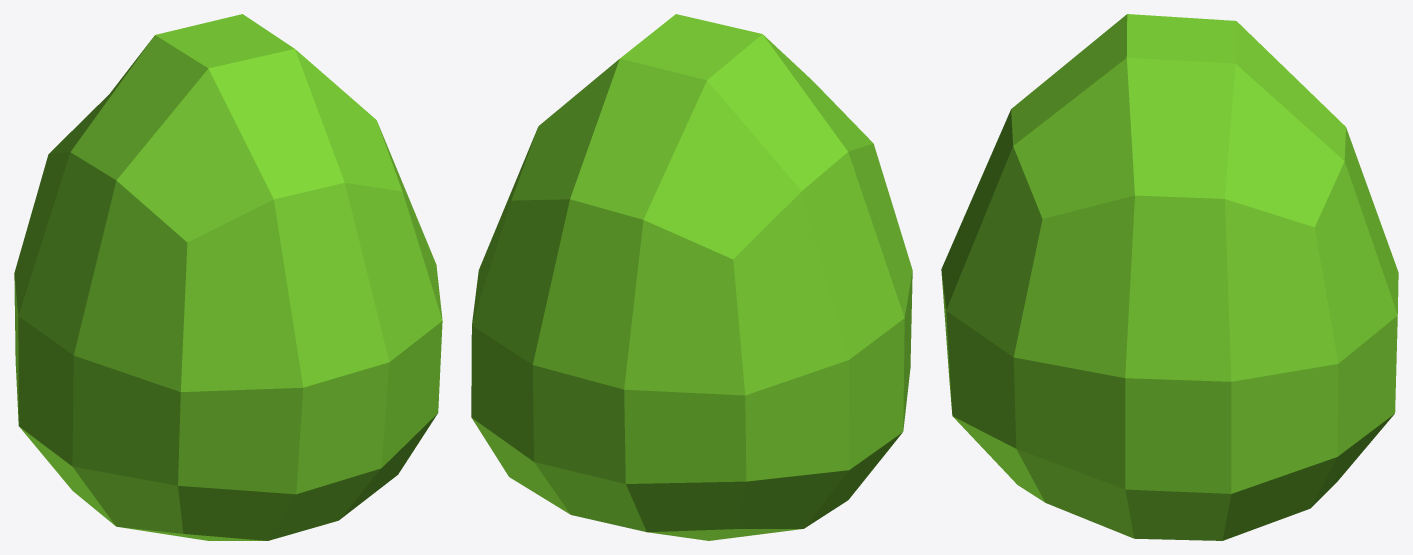
File: chirimoya.glb
The picture shows the model from 3 angles, left to right: view 1: azimuth 30°, elevation 25°; view 2: azimuth 150°, elevation 25°; view 3: azimuth 270°, elevation 25°; orthographic projection.
Parts seen in each view (by area): view 1: Chirimoya; view 2: Chirimoya; view 3: Chirimoya.
Part boxes in pixels (x1,y1,x2,y2): Chirimoya: (14, 14, 442, 540); Chirimoya: (471, 14, 912, 540); Chirimoya: (941, 14, 1398, 540).
Size of the model in its own units: 0.54 by 0.6592 by 0.5755.
